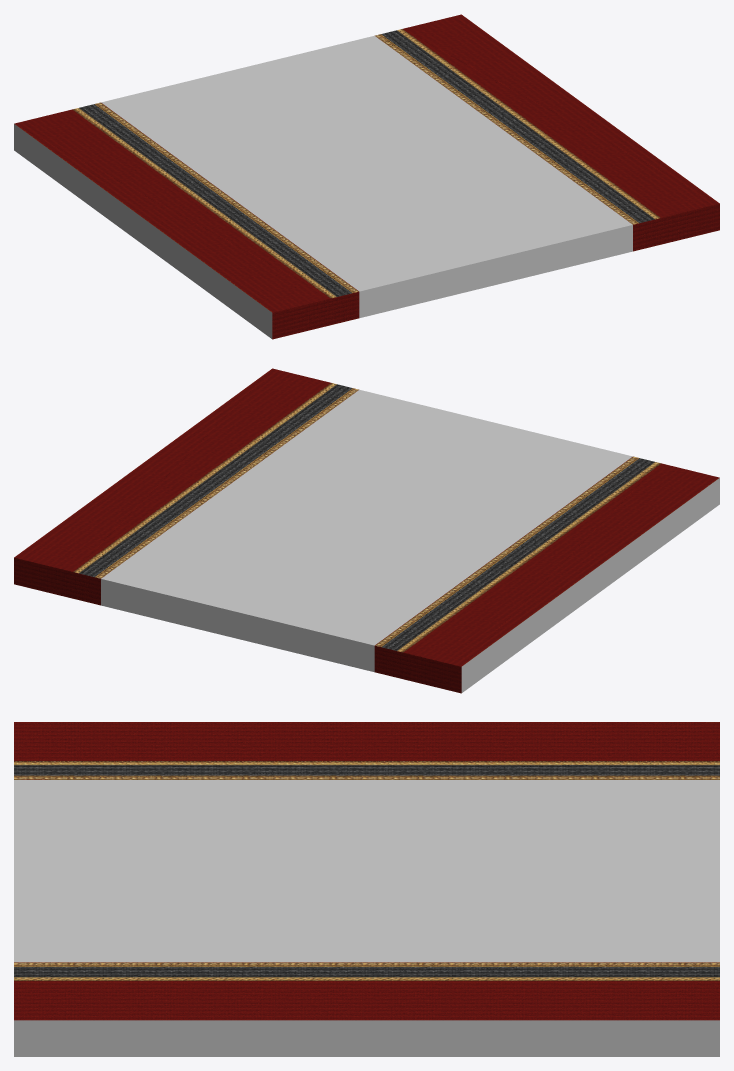
The model's file is Floor_1.FBX.
3 views of the same model, one above another, from view 1: azimuth 30°, elevation 25°; view 2: azimuth 150°, elevation 25°; view 3: azimuth 270°, elevation 25° (orthographic). The views are drawn at different scales.
Visible parts, largest first — view 1: Floor_1; view 2: Floor_1; view 3: Floor_1.
Boxes of the visible parts, x1,y1,x2,y2 form: Floor_1: [14, 14, 719, 339]; Floor_1: [14, 368, 719, 693]; Floor_1: [14, 722, 719, 1056].
Bounding box in the file's own units: 10 × 0.5702 × 10.
